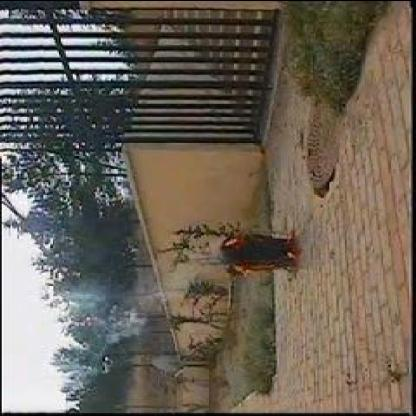-: (64, 274, 140, 334)
foggia-v2-map80-epoch100 - v1 4323: (226, 258, 271, 274)
